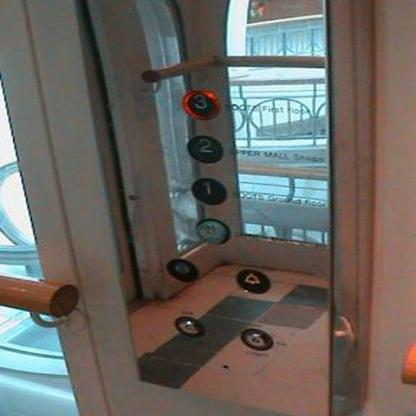1: (188, 175, 230, 207)
2: (183, 132, 225, 164)
3: (179, 87, 222, 122)
alarm: (233, 264, 275, 296)
blur: (191, 214, 232, 246)
keyhole: (170, 312, 206, 339), (237, 325, 273, 352)
open: (160, 252, 202, 284)
